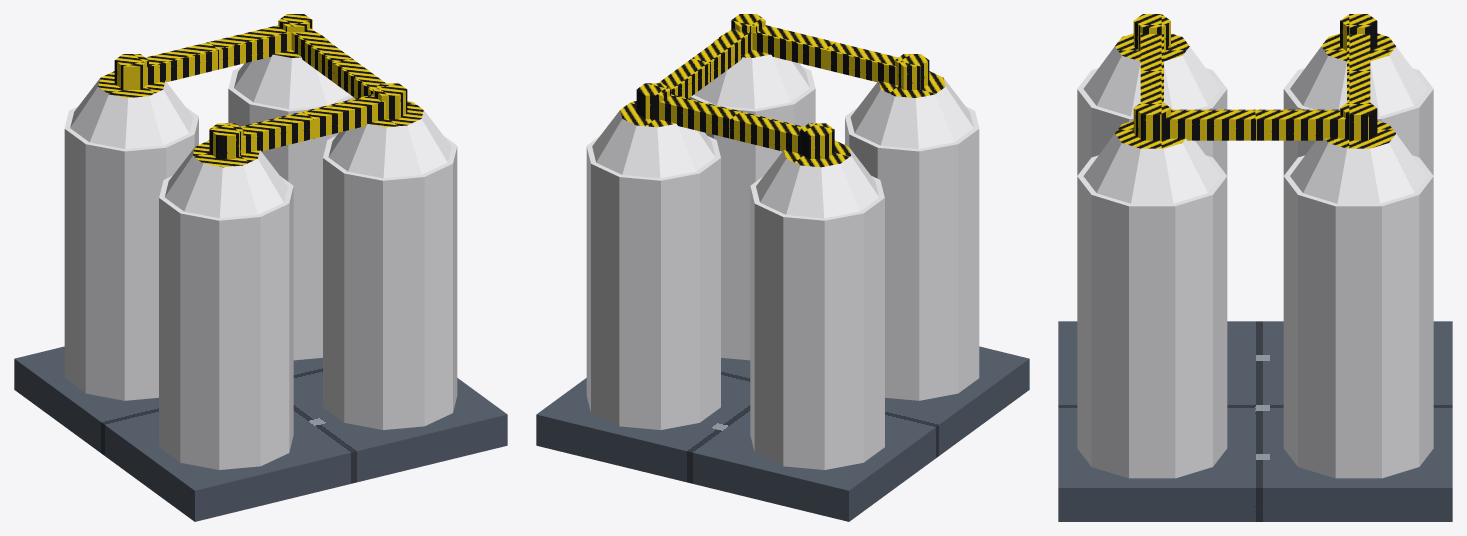
The model's file is battery_nih2.glb.
3 renders of one model, left to right at view 1: azimuth 30°, elevation 25°; view 2: azimuth 150°, elevation 25°; view 3: azimuth 270°, elevation 25°, orthographic. The views are drawn at different scales.
Parts seen in each view (by area): view 1: battery_nih2; view 2: battery_nih2; view 3: battery_nih2.
Part boxes in pixels (box(x1,y1,x2,y2)): battery_nih2: box(14, 14, 507, 521); battery_nih2: box(536, 14, 1029, 521); battery_nih2: box(1058, 14, 1452, 521).
Size of the model in its own units: 0.42 by 0.44 by 0.42.
Materials: 3 (2 with a texture image).
